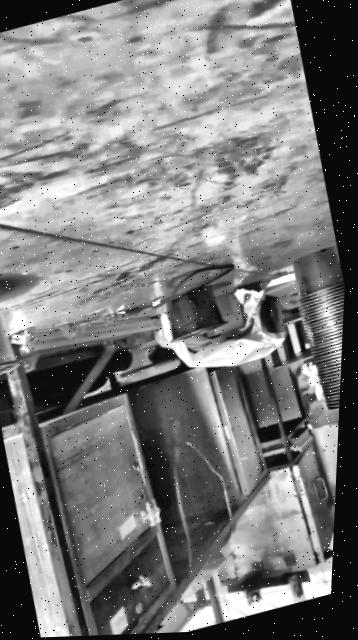pot: (161, 282, 231, 345), (288, 246, 346, 307)
